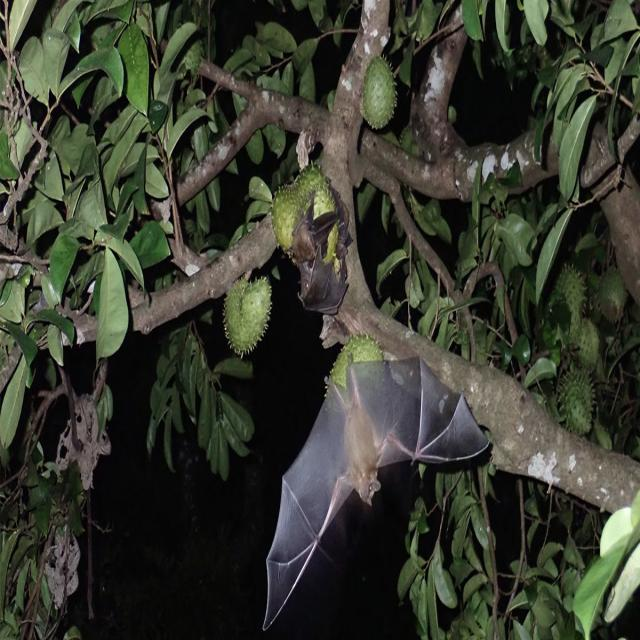bat: (266, 358, 489, 626)
